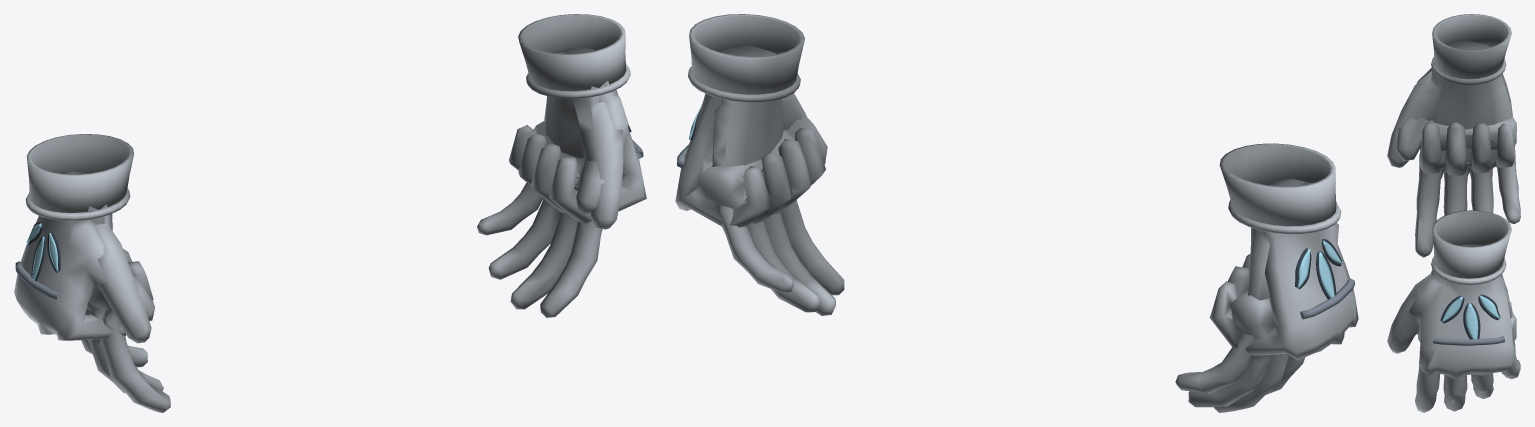
File: g_mithril.glb
The picture shows the model from 3 angles, left to right: view 1: azimuth 30°, elevation 25°; view 2: azimuth 150°, elevation 25°; view 3: azimuth 270°, elevation 25°; orthographic projection. The views are drawn at different scales.
Visible parts, largest first — view 1: ArmL_HandOpen, ArmR_Hand, ArmR_Gauntlet, ArmL_Gauntlet, ArmL_Hand, ArmR_HandOpen; view 2: ArmR_Hand, ArmL_HandOpen, ArmL_Hand, ArmR_Gauntlet, ArmL_Gauntlet, ArmR_HandOpen; view 3: ArmR_HandOpen, ArmL_Hand, ArmR_Hand, ArmL_Gauntlet, ArmR_Gauntlet, ArmL_HandOpen.
Part boxes in pixels (x1,y1,x2,y2): ArmL_HandOpen: [477, 51, 623, 317]; ArmR_Hand: [14, 172, 155, 340]; ArmR_Gauntlet: [25, 134, 133, 220]; ArmL_Gauntlet: [518, 14, 630, 98]; ArmL_Hand: [509, 47, 646, 223]; ArmR_HandOpen: [63, 171, 170, 412]; ArmR_Hand: [1209, 182, 1358, 360]; ArmL_HandOpen: [712, 49, 844, 315]; ArmL_Hand: [675, 45, 827, 227]; ArmR_Gauntlet: [1219, 143, 1341, 234]; ArmL_Gauntlet: [688, 14, 804, 102]; ArmR_HandOpen: [1175, 179, 1305, 412]; ArmR_HandOpen: [1387, 62, 1520, 257]; ArmL_Hand: [1409, 261, 1516, 379]; ArmR_Hand: [1395, 41, 1516, 176]; ArmL_Gauntlet: [1431, 210, 1511, 284]; ArmR_Gauntlet: [1431, 14, 1511, 84]; ArmL_HandOpen: [1387, 244, 1520, 412].
Size of the model in its own units: 0.5695 by 0.2292 by 0.1346.
